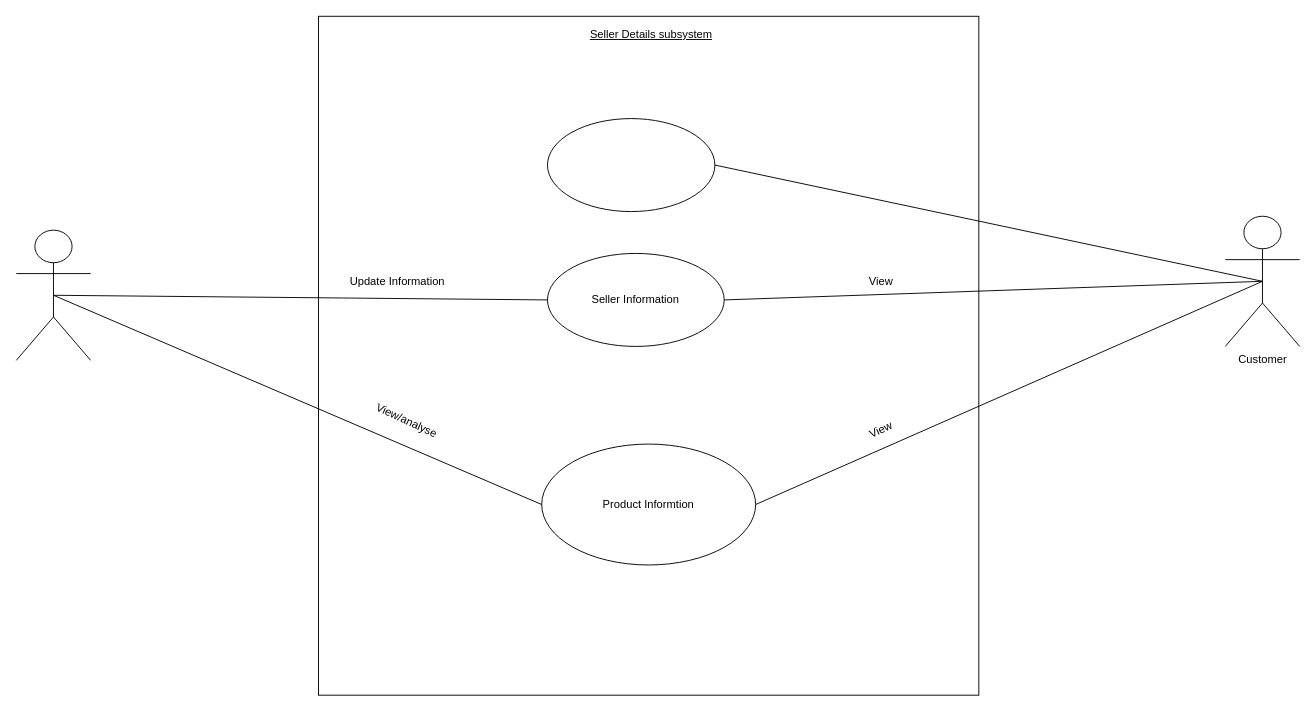
The diagram is 1316 pixels wide and 711 high, and some of its shapes have lost their labels. The box of each missing label's shape, as (x1, y1, x2, y2) in pixels:
Follow Seller: (547, 118, 715, 212)
Seller: (15, 229, 91, 360)
